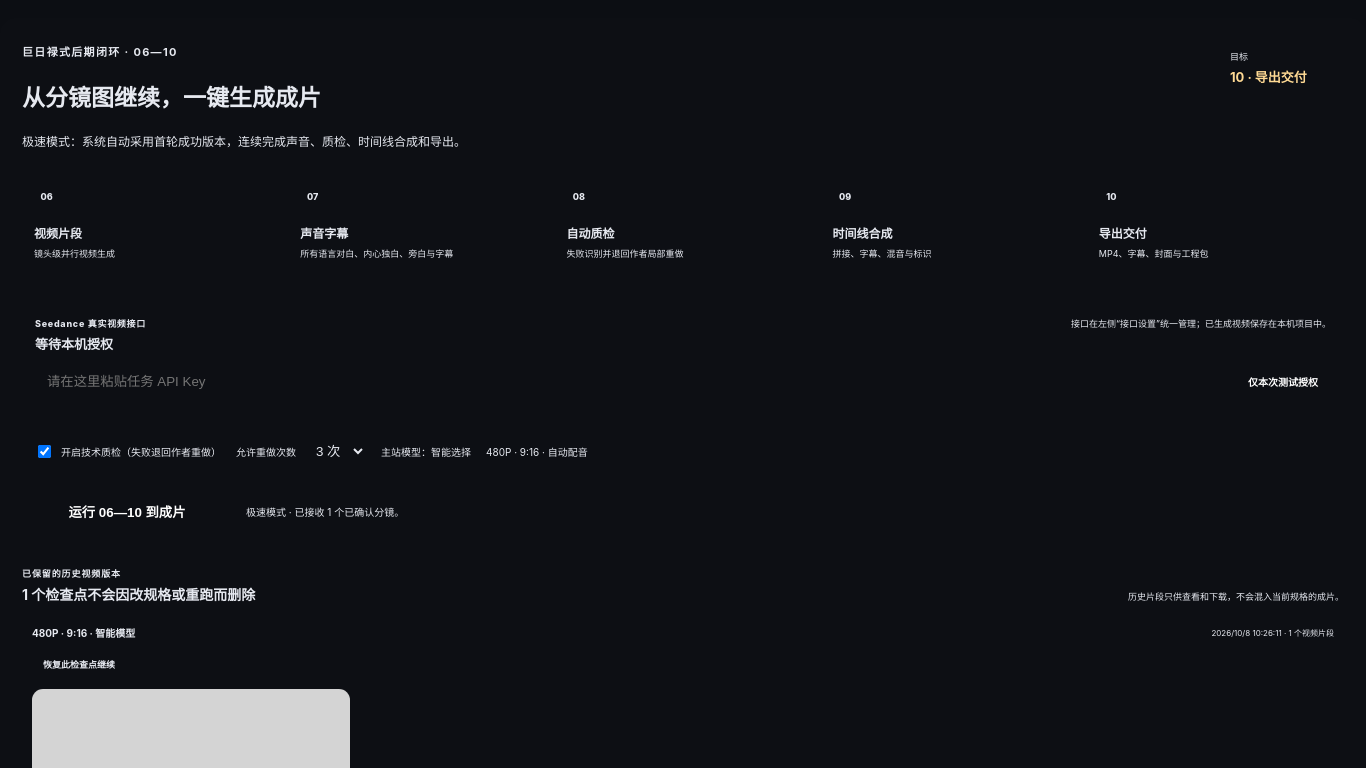
Test: PostproductionWorkspace › 可从同规格历史检查点恢复视频和音轨，且语音恢复不要求重新授权 Seedance
Click the button "恢复此检查点继续".
click(79, 664)  # box [32, 650, 126, 679]
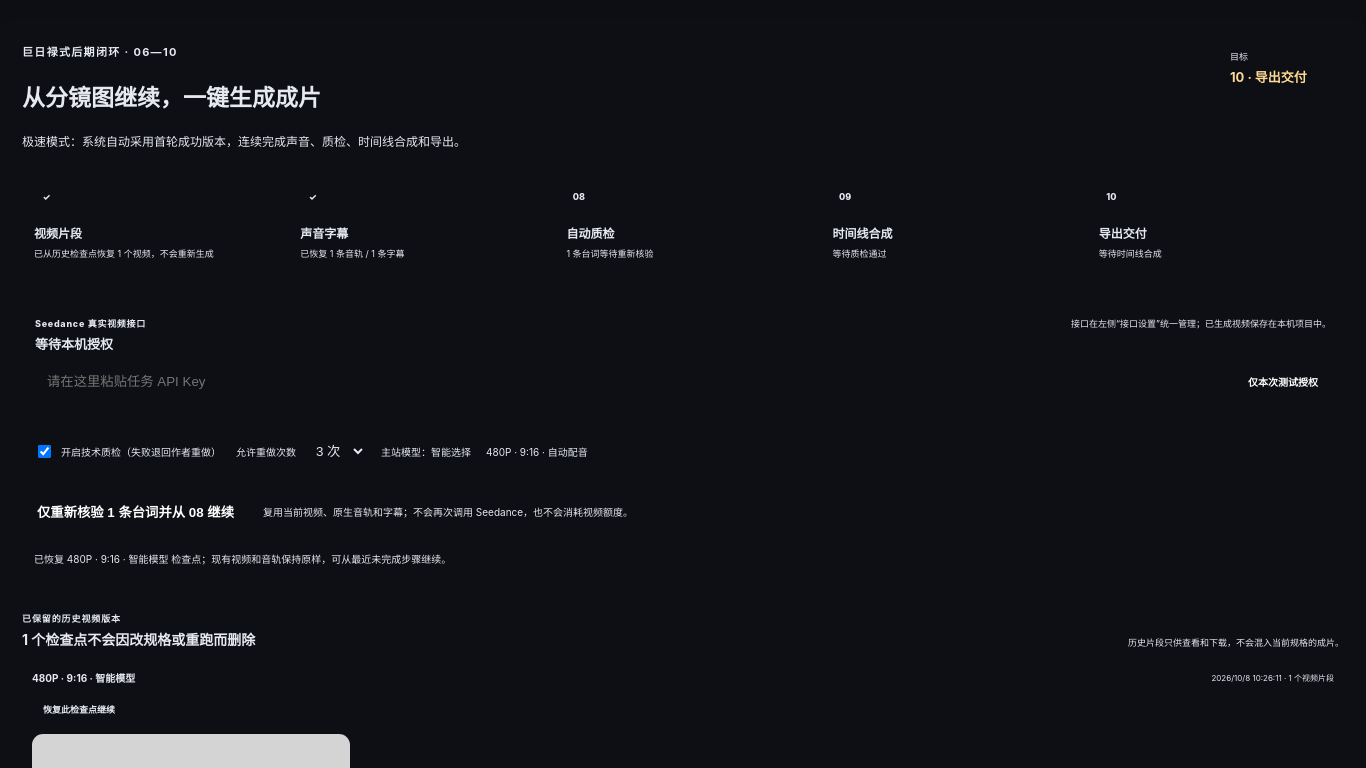
Expected: the button "仅本次测试授权" is disabled, [1235, 364, 1331, 399]
Expected: the button "仅重新核验 1 条台词并从 08 继续" is enabled, [22, 491, 249, 532]
